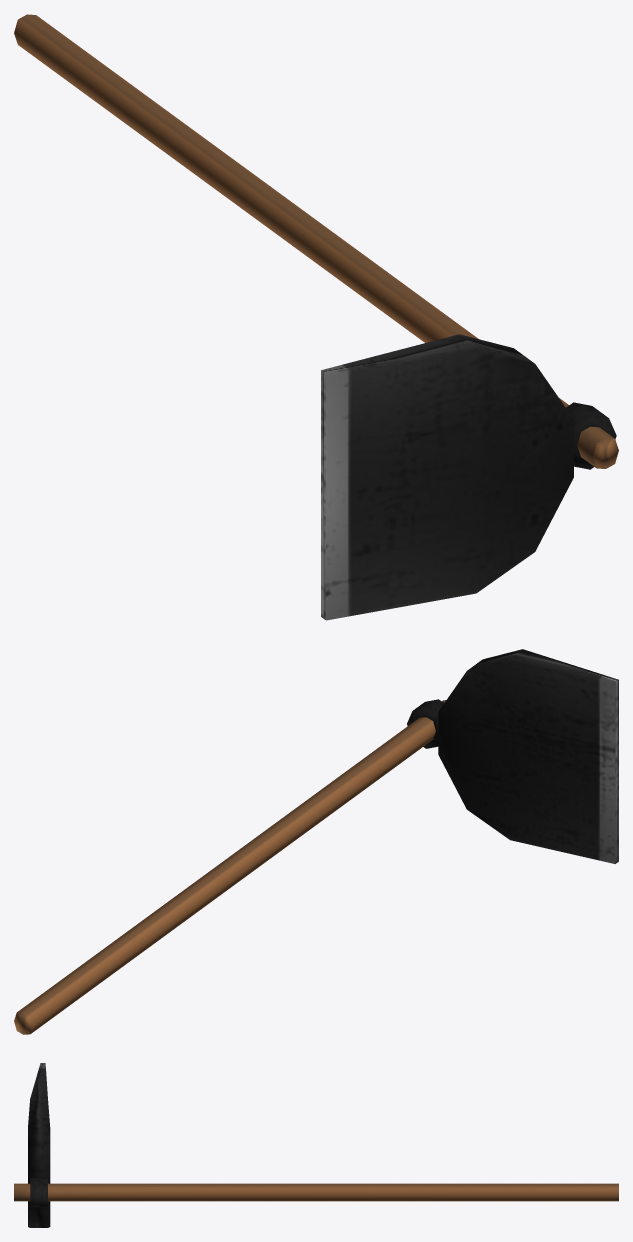
Rendered from Hoe.fbx.
3 renders of one model, top to bottom at view 1: azimuth 30°, elevation 25°; view 2: azimuth 150°, elevation 25°; view 3: azimuth 270°, elevation 25°, orthographic. The views are drawn at different scales.
Visible parts, largest first — view 1: Hoe; view 2: Hoe; view 3: Hoe.
Boxes of the visible parts, x1,y1,x2,y2 form: Hoe: [14, 14, 618, 620]; Hoe: [14, 649, 618, 1034]; Hoe: [14, 1063, 618, 1227].
Size of the model in its own units: 2.23 by 1.88 by 7.97.
